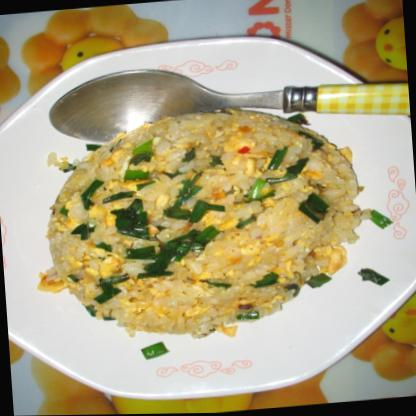fried rice: (40, 103, 350, 339)
